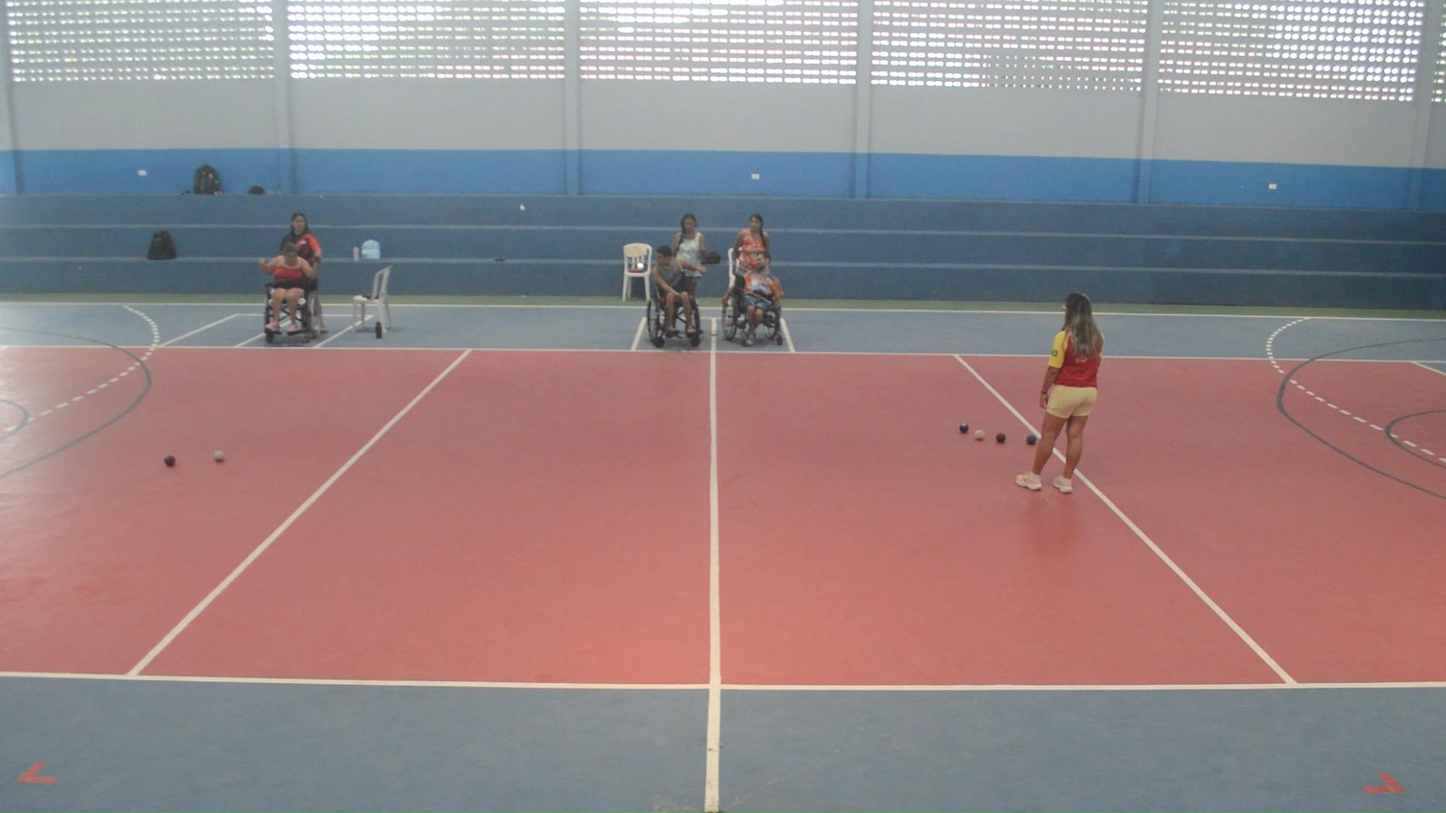blue_ball: (1026, 434, 1037, 446), (959, 422, 969, 435)
red_ball: (163, 455, 176, 468), (995, 432, 1007, 444)
white_ball: (212, 449, 225, 463), (974, 429, 985, 441)
